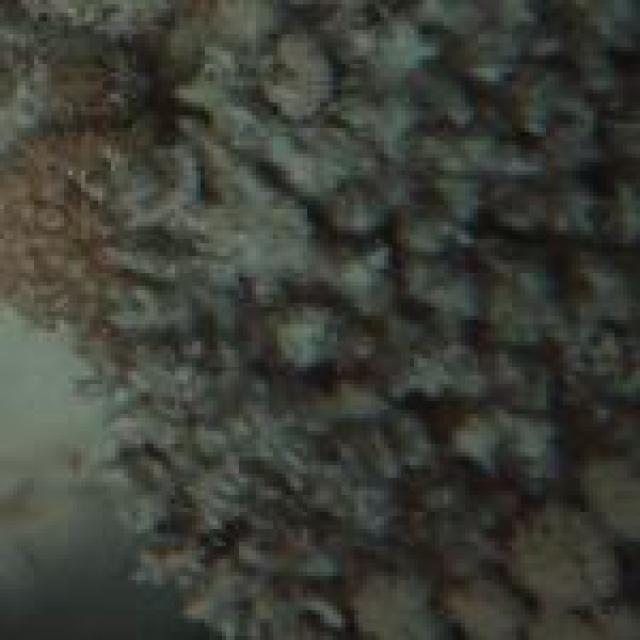Dead Coral: (125, 0, 640, 561)
